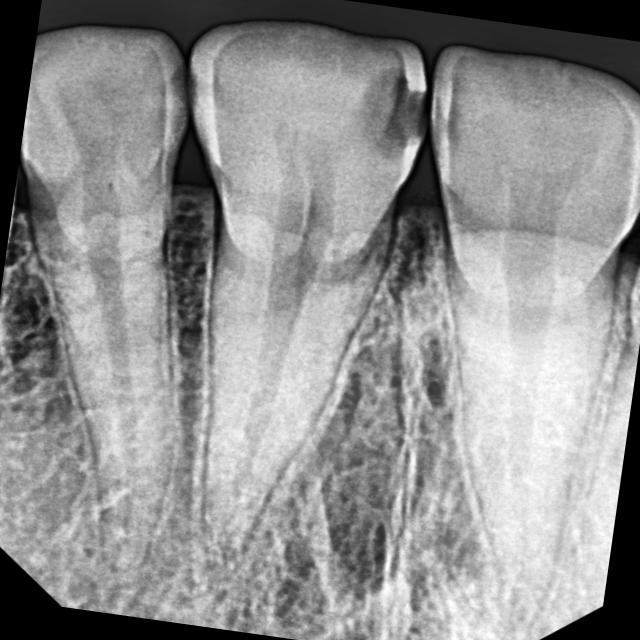Caries: (320, 8, 479, 238), (127, 35, 250, 181)
